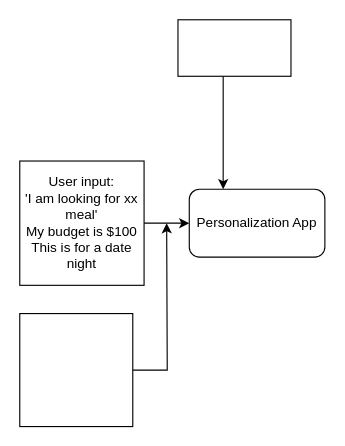
Some shapes in this 345 by 446 pixel diagram are drawn without their labels. Here are the shapes that lost their labels. From the top down, the box of each, then its label:
(177, 19, 291, 76): Location, Reviews scraped
(19, 312, 133, 427): Craving for a meal Upload photo
